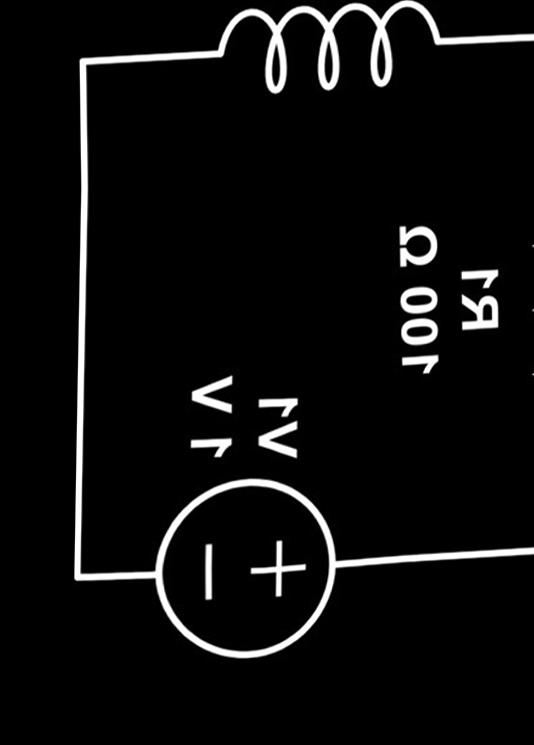Battery: (125, 445, 367, 677)
